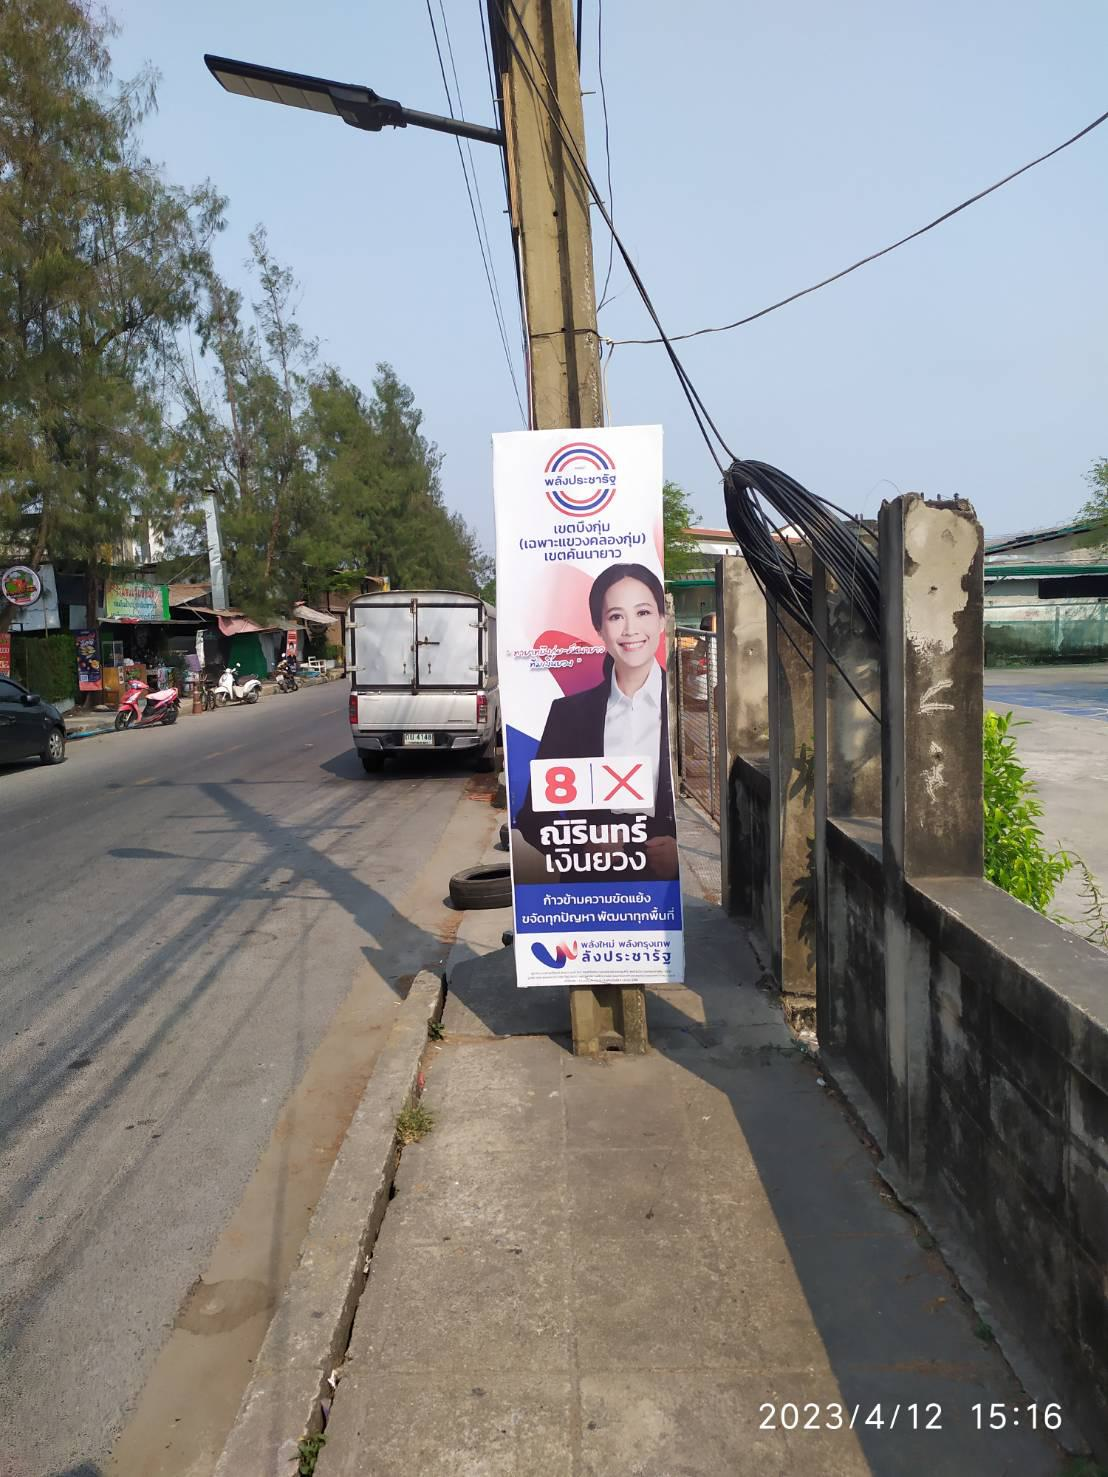Banner: (503, 416, 672, 989)
